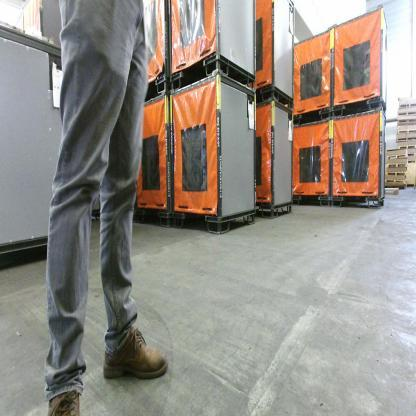pallets: (142, 50, 255, 102), (290, 98, 383, 126), (204, 209, 257, 234), (255, 200, 293, 218)
